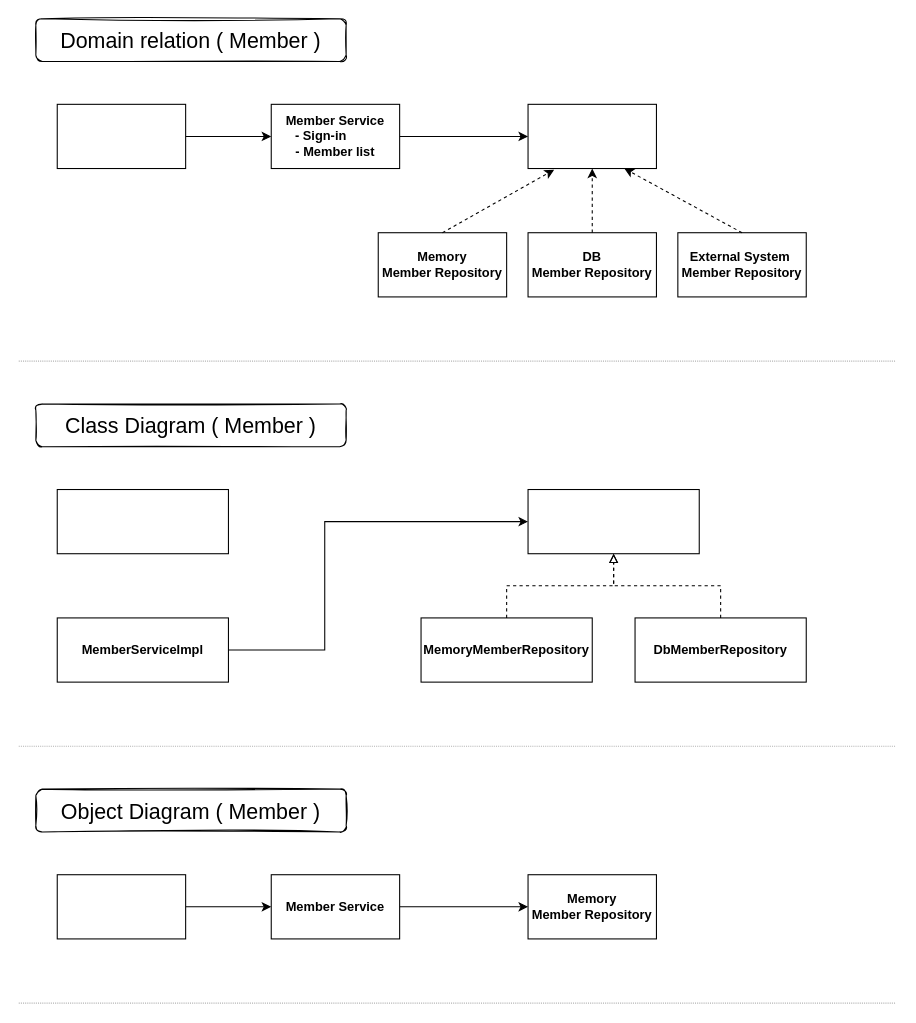
This 916x1023 diagram has some shape labels left out. Here are the shapes that lost their labels. From the top down, the centre of each, then its label:
the point at 121,136: Client ( Controller )
the point at 591,136: Member Repository
the point at 142,521: <<interface>> MemberService
the point at 613,521: <<interface>> MemberRepository
the point at 121,906: Client
